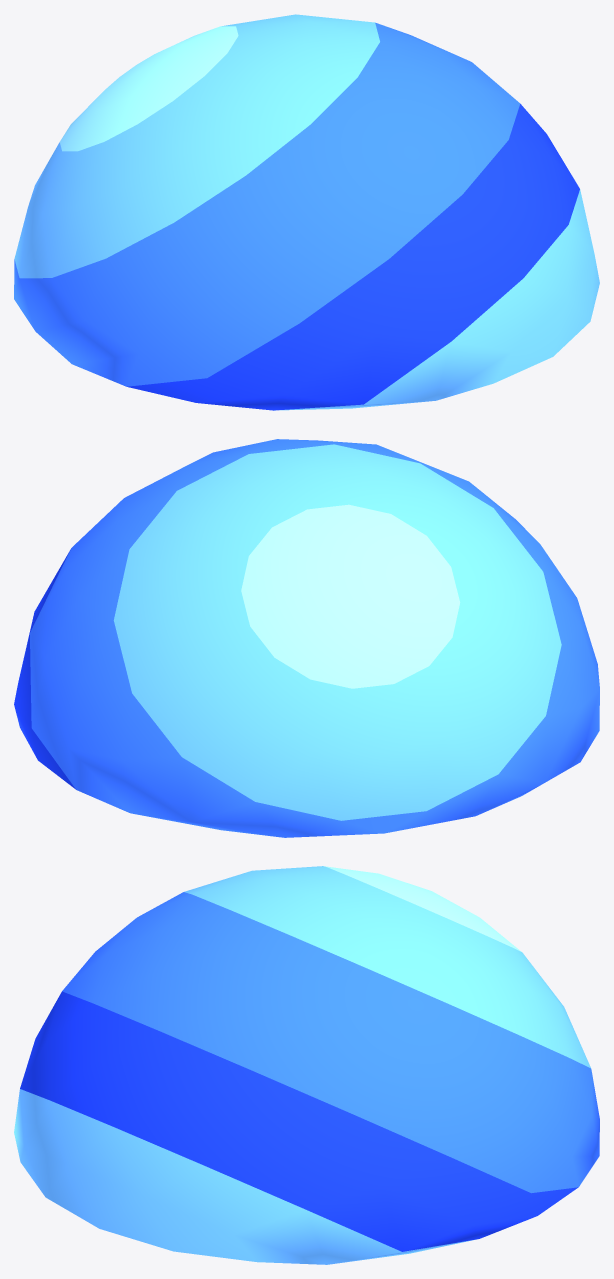
File: shot_protron_blue.glb
The picture shows the model from 3 angles, top to bottom: view 1: azimuth 30°, elevation 25°; view 2: azimuth 150°, elevation 25°; view 3: azimuth 270°, elevation 25°; orthographic projection.
Visible parts, largest first — view 1: shot_protron_blue_pearl0; view 2: shot_protron_blue_pearl0; view 3: shot_protron_blue_pearl0.
Part boxes in pixels (x1,y1,x2,y2): shot_protron_blue_pearl0: (14,14,599,410); shot_protron_blue_pearl0: (14,439,599,837); shot_protron_blue_pearl0: (14,866,599,1264).
Bounding box in the file's own units: 6.96 × 3.22 × 6.96.
